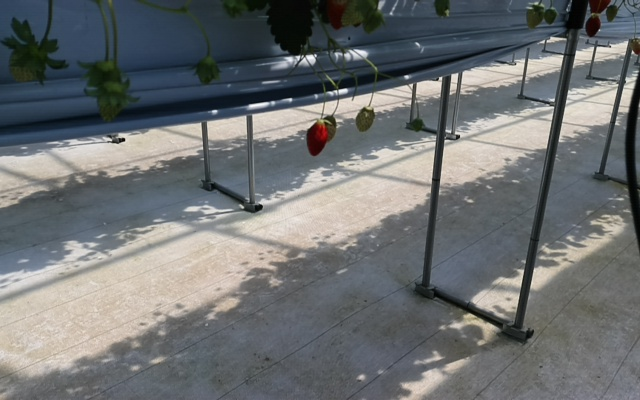GreenStrawberry: (9, 43, 47, 88), (96, 78, 130, 125), (193, 55, 219, 88), (354, 106, 376, 134), (525, 3, 545, 30), (326, 113, 339, 144), (545, 7, 558, 27)
MatureStrawberry: (304, 118, 329, 158), (585, 13, 601, 40)
